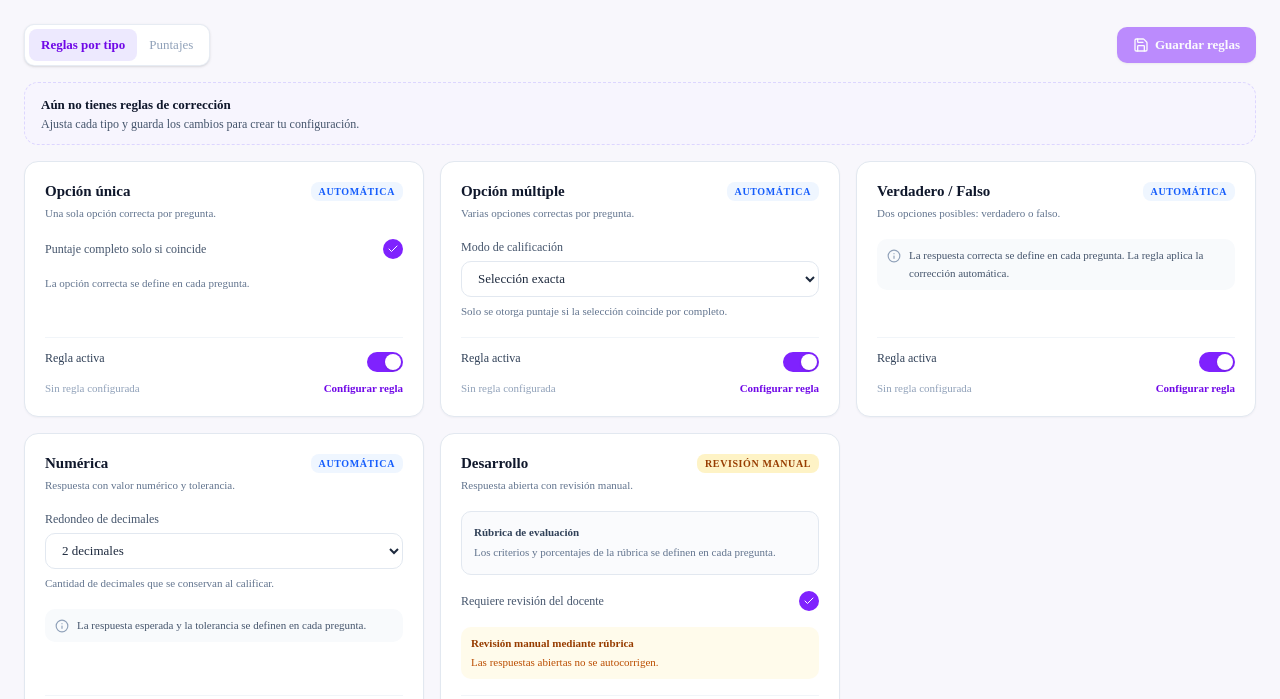
Test case: ReglasCorreccion › muestra el mensaje de conflicto 409 del backend
Expected: the text "Aún no tienes reglas de corrección" is shown, [41, 96, 231, 112]
Click the checkbox labelled "Regla activa" below "Puntaje completo solo si coincide". click: (75, 358)
box: [45, 350, 105, 366]
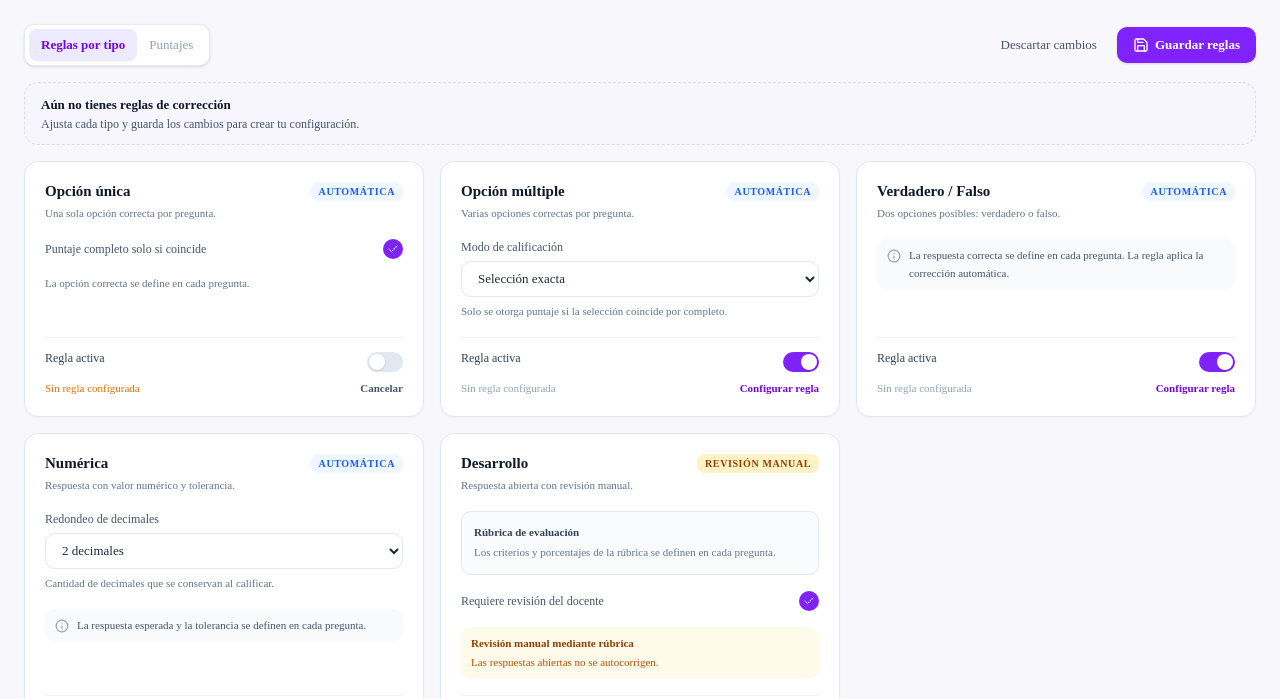
Click the checkbox labelled "Regla activa" below "Puntaje completo solo si coincide". click: (75, 358)
box: [45, 350, 105, 366]
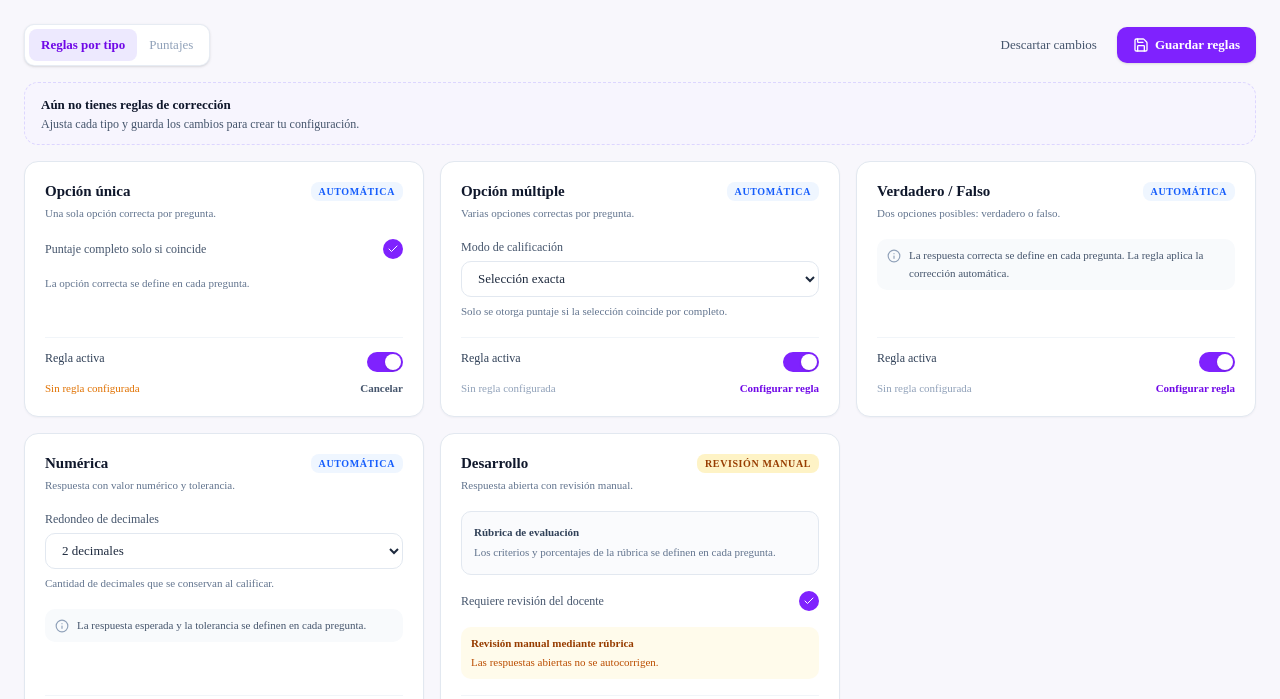
Click the button "Guardar reglas". click: (1186, 45)
box: [1117, 27, 1256, 63]
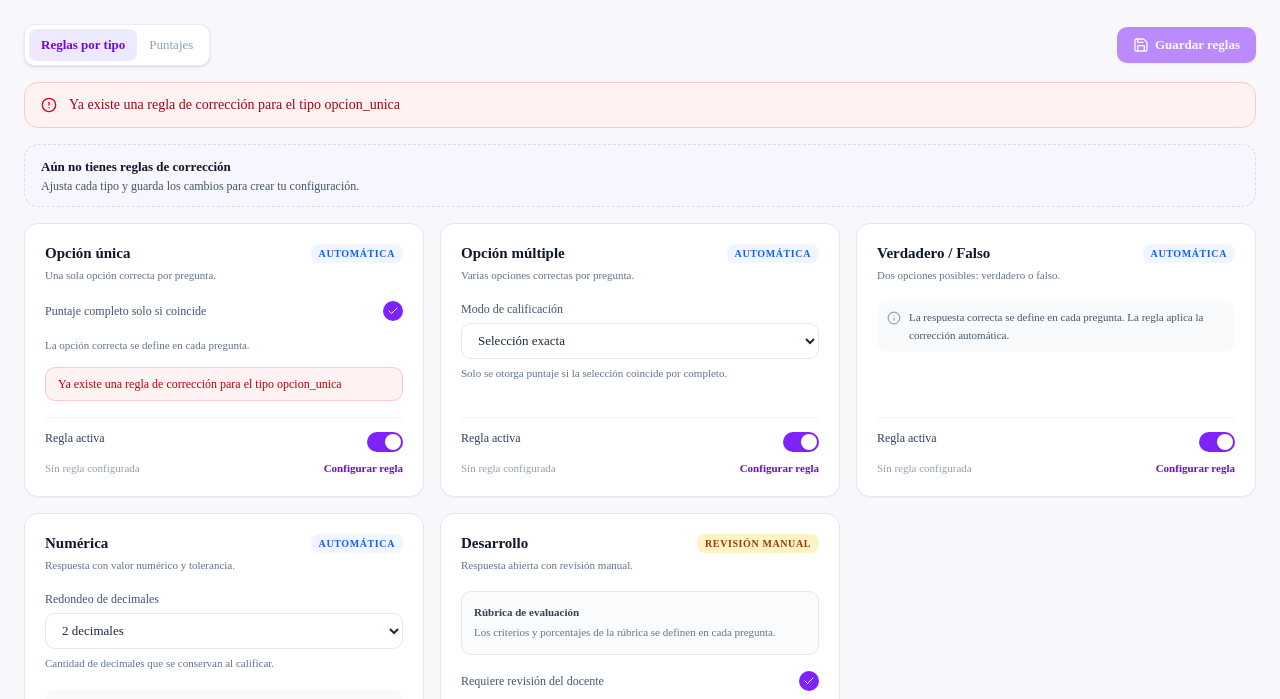
Now the text "Ya existe una regla de corrección para el tipo opcion_unica" is shown, box [69, 94, 400, 114]
